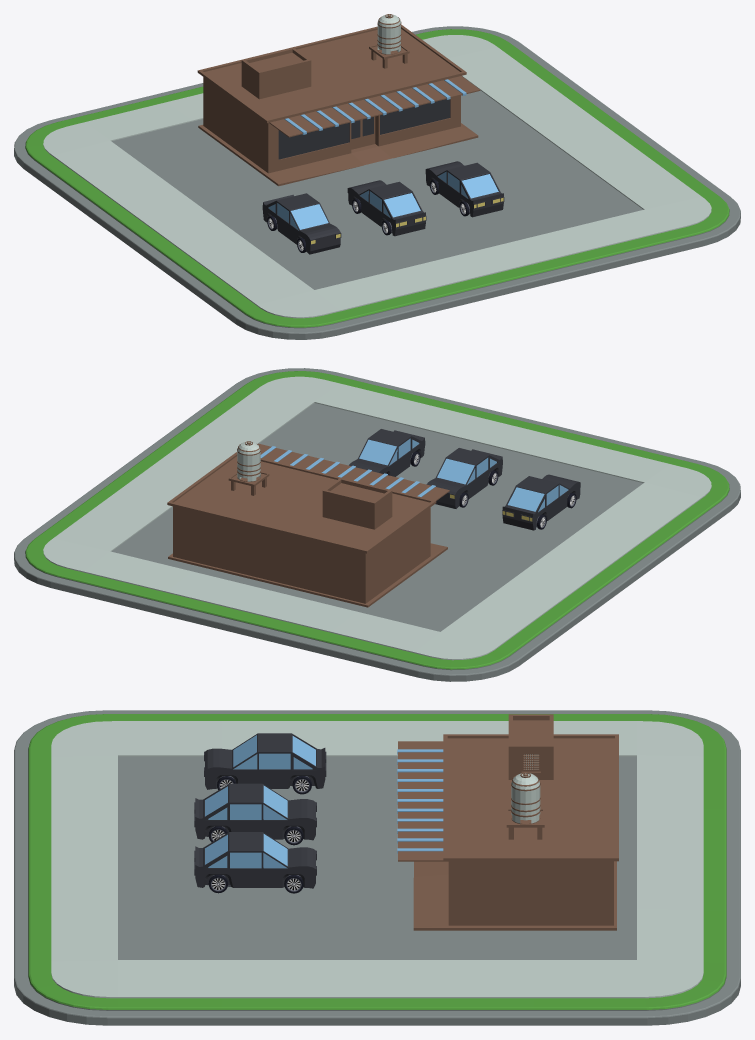
Rendered from Store.fbx.
3 renders of one model, top to bottom at view 1: azimuth 30°, elevation 25°; view 2: azimuth 150°, elevation 25°; view 3: azimuth 270°, elevation 25°, orthographic. The views are drawn at different scales.
Parts seen in each view (by area): view 1: Small store, small building with water tank on the roof, car low poly.001, car low poly.004, car low poly.003; view 2: Small store, small building with water tank on the roof, car low poly.001, car low poly.004, car low poly.003; view 3: Small store, small building with water tank on the roof, car low poly.003, car low poly.001, car low poly.004.
Part boxes in pixels (x1,y1,x2,y2): Small store: (14, 26, 740, 339); small building with water tank on the roof: (197, 14, 480, 186); car low poly.001: (262, 193, 341, 254); car low poly.004: (347, 180, 426, 236); car low poly.003: (425, 161, 504, 217); Small store: (14, 368, 740, 681); small building with water tank on the roof: (167, 441, 449, 607); car low poly.001: (502, 474, 580, 530); car low poly.004: (426, 448, 502, 508); car low poly.003: (349, 429, 425, 476); Small store: (14, 710, 740, 1025); small building with water tank on the roof: (397, 714, 618, 930); car low poly.003: (194, 832, 316, 893); car low poly.001: (204, 733, 326, 794); car low poly.004: (194, 783, 316, 845).
Bounding box in the file's own units: 1377 × 296 × 1377.
